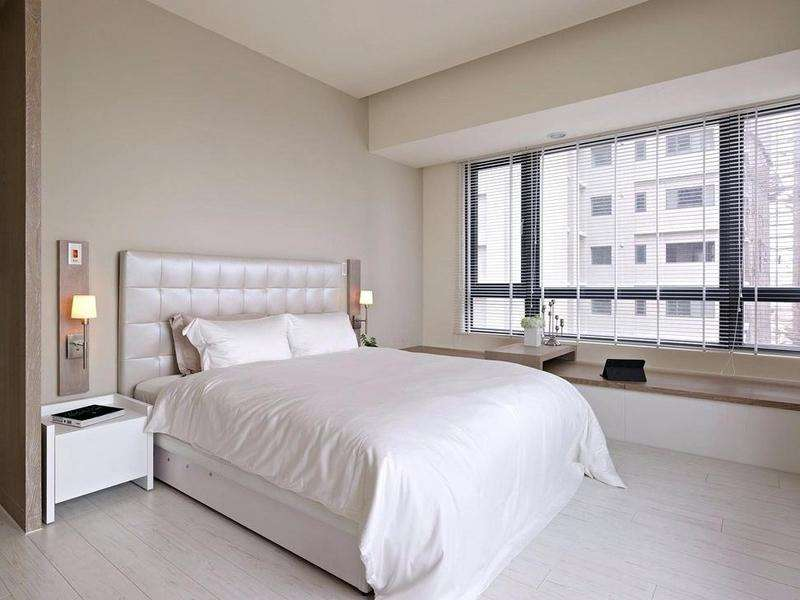床: (129, 346, 627, 577)
枕头: (176, 309, 373, 373)
灯: (63, 292, 97, 363), (354, 283, 382, 341)
